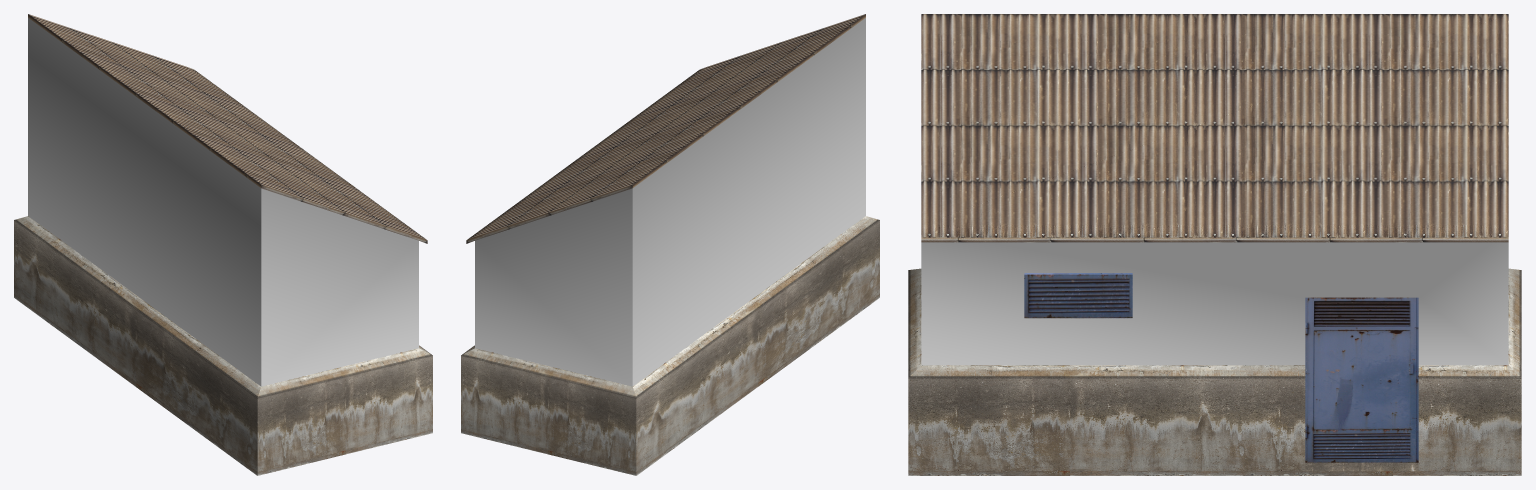
The model's file is house_entrance_lod1.fbx.
3 views of the same model, side by side, from view 1: azimuth 30°, elevation 25°; view 2: azimuth 150°, elevation 25°; view 3: azimuth 270°, elevation 25° (orthographic). The views are drawn at different scales.
Visible parts, largest first — view 1: Mesh Object; view 2: Mesh Object; view 3: Mesh Object.
Boxes of the visible parts, x1,y1,x2,y2 form: Mesh Object: (14,14,432,475); Mesh Object: (461,14,879,475); Mesh Object: (908,14,1521,475).
Bounding box in the file's own units: 2.7 × 4.2 × 6.49.
